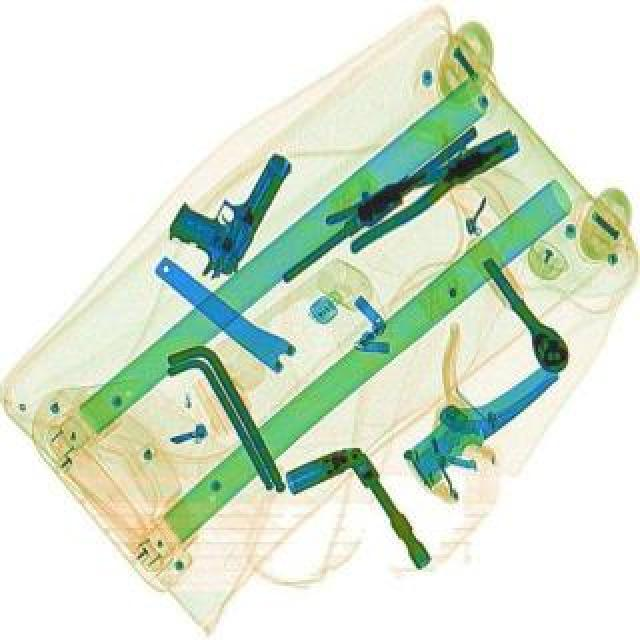gun: (152, 128, 296, 286)
wrench: (320, 120, 532, 258)
